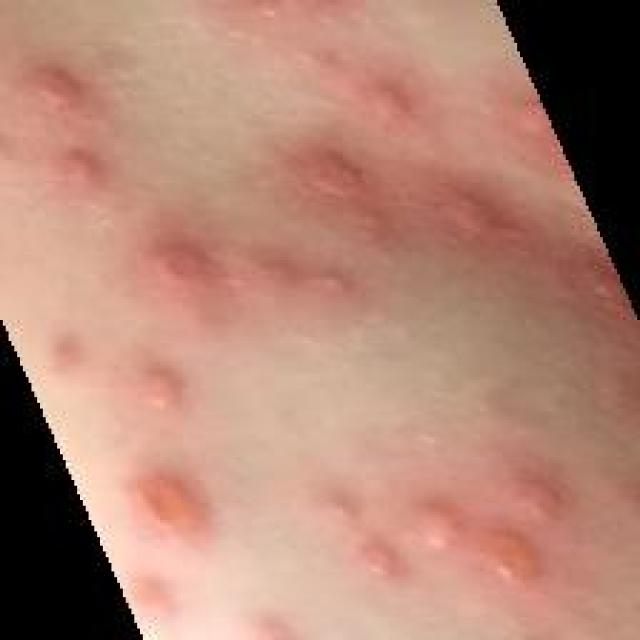others: (15, 26, 595, 610)
